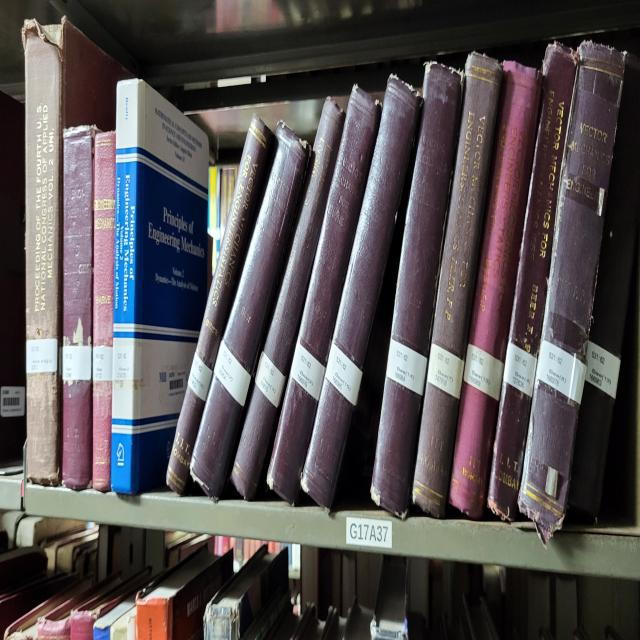Book: (519, 43, 625, 541), (301, 76, 421, 509), (21, 19, 129, 484), (268, 87, 381, 503), (231, 97, 344, 501), (190, 124, 308, 498), (488, 43, 578, 519), (412, 51, 502, 519), (371, 62, 462, 519), (450, 62, 541, 519), (111, 78, 209, 492), (166, 116, 271, 495), (62, 124, 96, 490), (92, 130, 116, 492)
Label: (536, 341, 586, 403), (214, 341, 251, 406), (325, 341, 362, 406), (386, 338, 428, 395), (464, 344, 504, 400), (290, 341, 325, 400), (585, 341, 620, 398), (428, 344, 464, 398), (504, 341, 536, 398), (255, 352, 285, 409), (188, 352, 212, 400), (26, 338, 58, 373), (62, 346, 91, 381), (92, 346, 112, 381)
